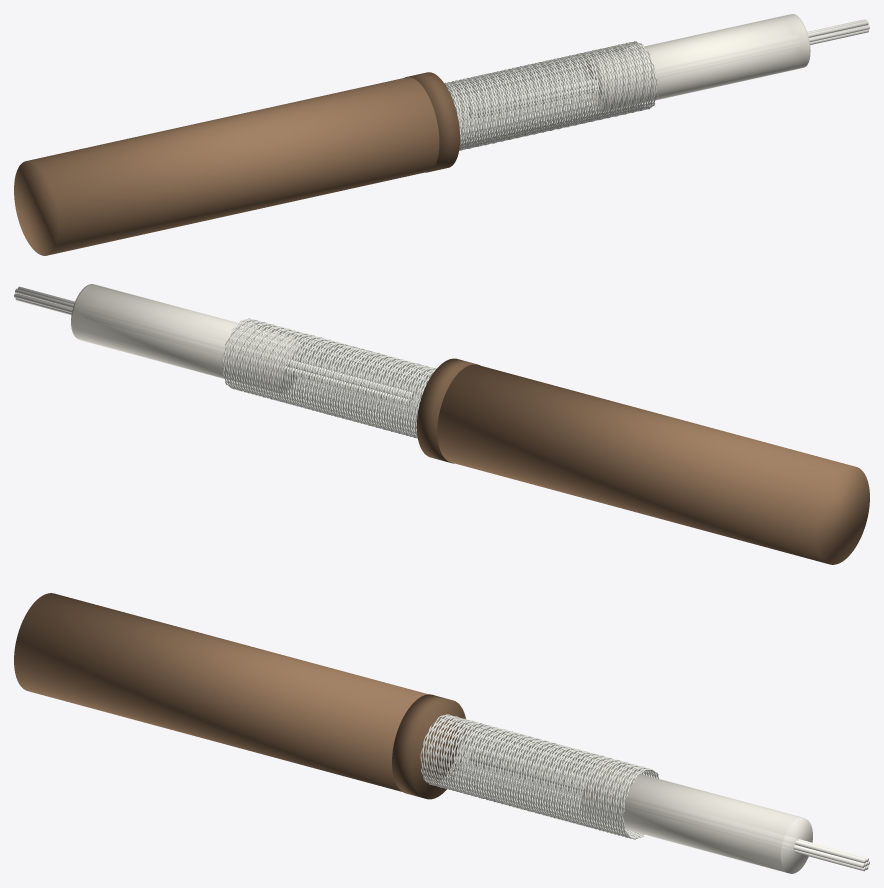
3 views of the same model, one above another, from view 1: azimuth 30°, elevation 25°; view 2: azimuth 150°, elevation 25°; view 3: azimuth 330°, elevation 25° (orthographic). The views are drawn at different scales.
Parts seen in each view (by area): view 1: matte black pvc jacket body, gas injected foam dielectric, smooth dielectric skin, jacket cut lip, braid left hand carrier 09, braid left hand carrier 11, braid left hand carrier 08, braid left hand carrier 12, braid right hand carrier 04, braid left hand carrier 06, braid right hand carrier 03, braid right hand carrier 05 (+22 smaller); view 2: matte black pvc jacket body, gas injected foam dielectric, smooth dielectric skin, jacket cut lip, braid left hand carrier 03, braid left hand carrier 05, braid left hand carrier 02, braid left hand carrier 06, braid left hand carrier 08, braid right hand carrier 14, braid left hand carrier 14, braid right hand carrier 02 (+22 smaller); view 3: matte black pvc jacket body, gas injected foam dielectric, smooth dielectric skin, jacket cut lip, braid left hand carrier 09, braid left hand carrier 06, braid left hand carrier 08, braid left hand carrier 05, braid left hand carrier 03, braid left hand carrier 11, braid left hand carrier 02, braid right hand carrier 08 (+22 smaller).
Boxes of the visible parts, left/top/right/bottom form: matte black pvc jacket body: left=14, top=77, right=439, bottom=255; gas injected foam dielectric: left=583, top=14, right=810, bottom=111; smooth dielectric skin: left=582, top=14, right=808, bottom=112; jacket cut lip: left=405, top=72, right=459, bottom=172; braid left hand carrier 09: left=452, top=43, right=649, bottom=148; braid left hand carrier 11: left=457, top=47, right=655, bottom=150; braid left hand carrier 08: left=449, top=41, right=647, bottom=145; braid left hand carrier 12: left=460, top=47, right=657, bottom=150; braid right hand carrier 04: left=445, top=44, right=657, bottom=147; braid left hand carrier 06: left=448, top=42, right=642, bottom=145; braid right hand carrier 03: left=445, top=43, right=657, bottom=146; braid right hand carrier 05: left=446, top=44, right=655, bottom=147; matte black pvc jacket body: left=437, top=364, right=869, bottom=564; gas injected foam dielectric: left=71, top=284, right=302, bottom=393; smooth dielectric skin: left=72, top=284, right=303, bottom=393; jacket cut lip: left=416, top=358, right=480, bottom=463; braid left hand carrier 03: left=227, top=323, right=429, bottom=436; braid left hand carrier 05: left=222, top=321, right=434, bottom=435; braid left hand carrier 02: left=229, top=323, right=428, bottom=437; braid left hand carrier 06: left=221, top=320, right=435, bottom=434; braid left hand carrier 08: left=231, top=319, right=436, bottom=433; braid right hand carrier 14: left=230, top=320, right=432, bottom=432; braid left hand carrier 14: left=235, top=325, right=430, bottom=437; braid right hand carrier 02: left=235, top=319, right=432, bottom=432; matte black pvc jacket body: left=14, top=593, right=428, bottom=791; gas injected foam dielectric: left=582, top=764, right=812, bottom=873; smooth dielectric skin: left=581, top=764, right=802, bottom=873; jacket cut lip: left=392, top=694, right=466, bottom=799; braid left hand carrier 09: left=433, top=721, right=644, bottom=835; braid left hand carrier 06: left=425, top=719, right=659, bottom=833; braid left hand carrier 08: left=430, top=720, right=652, bottom=834; braid left hand carrier 05: left=422, top=718, right=656, bottom=832; braid left hand carrier 03: left=420, top=716, right=651, bottom=831; braid left hand carrier 11: left=438, top=722, right=632, bottom=836; braid left hand carrier 02: left=424, top=716, right=648, bottom=837; braid right hand carrier 08: left=430, top=714, right=643, bottom=837.
Bounding box in the file's own units: 6.51 × 0.6792 × 0.8122.
